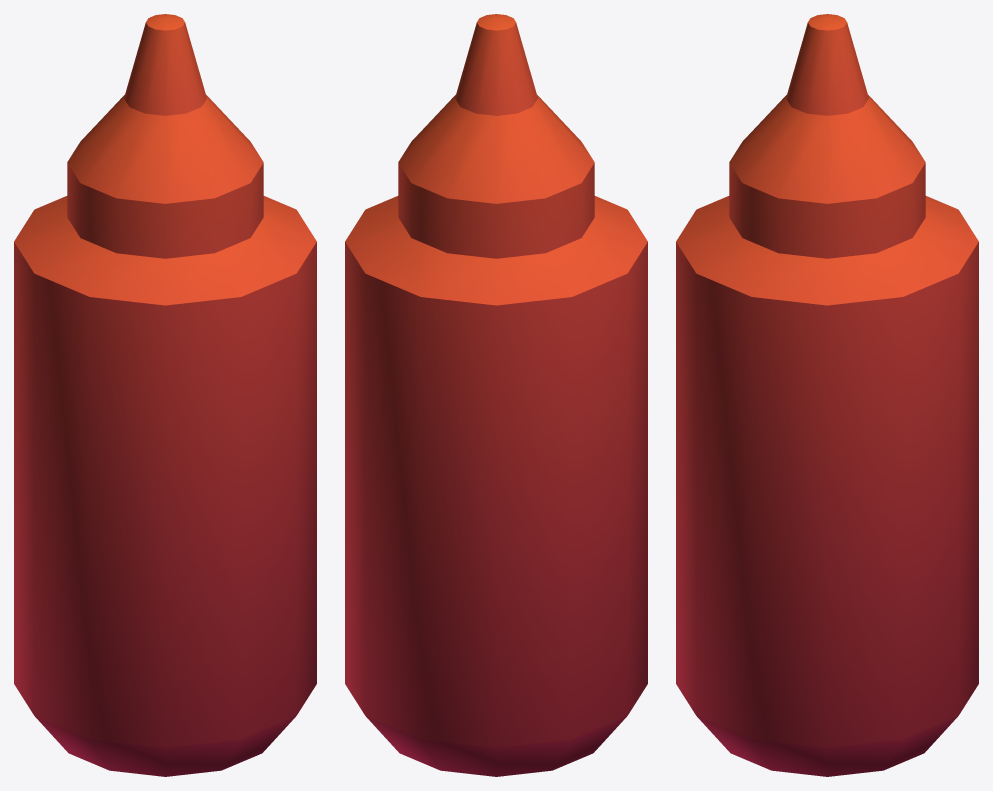
The model's file is re-ketchup.glb.
The picture shows the model from 3 angles, left to right: view 1: azimuth 30°, elevation 25°; view 2: azimuth 150°, elevation 25°; view 3: azimuth 270°, elevation 25°; orthographic projection.
Parts seen in each view (by area): view 1: ketchup; view 2: ketchup; view 3: ketchup.
Part boxes in pixels (left/top/right/bottom): ketchup: left=14, top=14, right=316, bottom=776; ketchup: left=345, top=14, right=647, bottom=776; ketchup: left=676, top=14, right=978, bottom=776.
Size of the model in its own units: 0.3 by 0.7785 by 0.3.
1 material, 1 textured.
